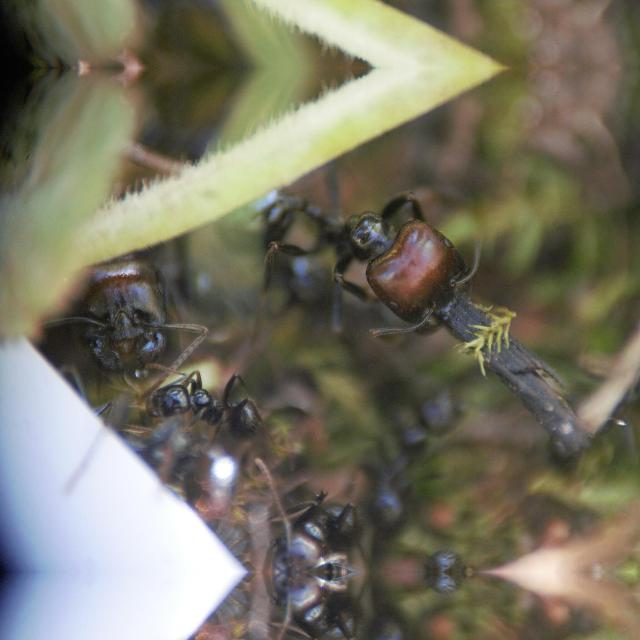Messor: (221, 168, 477, 346), (43, 212, 205, 388), (352, 384, 456, 520), (127, 350, 266, 444), (259, 480, 355, 570), (259, 572, 355, 640)
